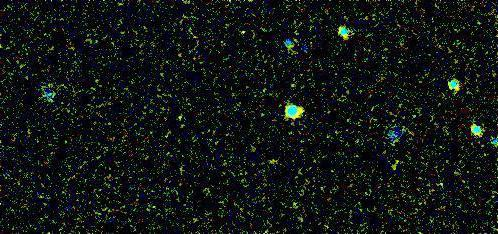star: (227, 17, 257, 47)
